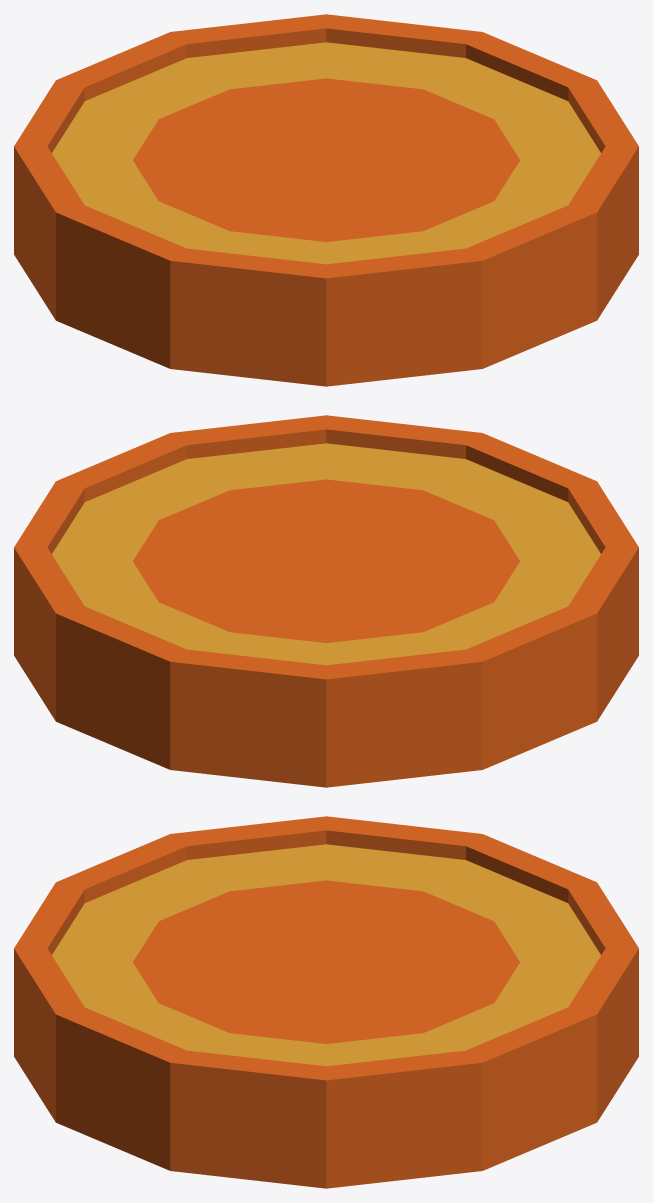
File: Collectable_Coin.fbx
3 renders of one model, top to bottom at view 1: azimuth 30°, elevation 25°; view 2: azimuth 150°, elevation 25°; view 3: azimuth 270°, elevation 25°, orthographic.
Parts seen in each view (by area): view 1: Cylinder; view 2: Cylinder; view 3: Cylinder.
Boxes of the visible parts, x1,y1,x2,y2 form: Cylinder: (14, 14, 638, 386); Cylinder: (14, 415, 638, 787); Cylinder: (14, 816, 638, 1188).
Bounding box in the file's own units: 132 × 25.23 × 132.
